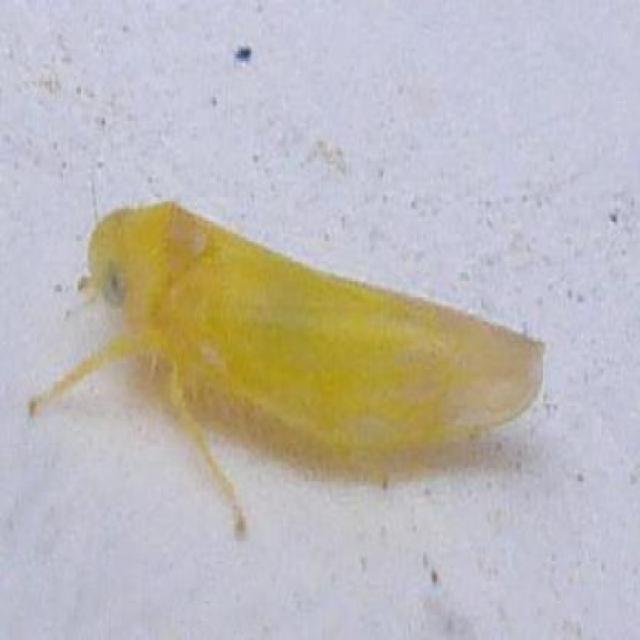brown-planthopper: (29, 200, 547, 538)
